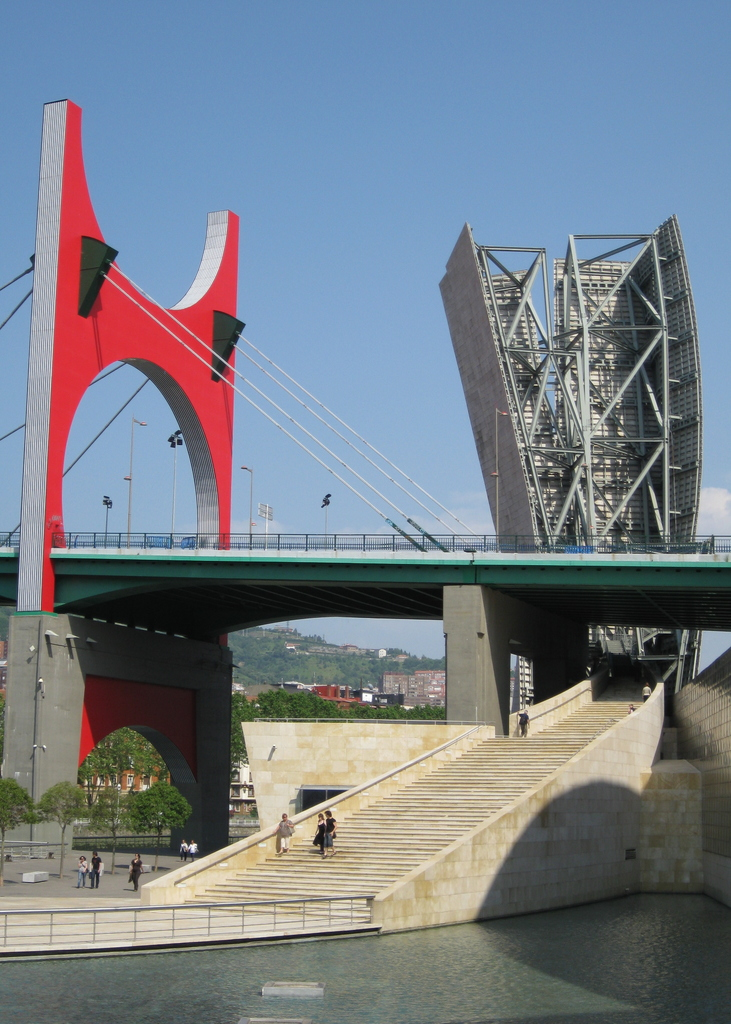Tree: (229, 688, 460, 766), (83, 726, 172, 842), (126, 787, 193, 869), (53, 784, 95, 883), (0, 771, 58, 840)
